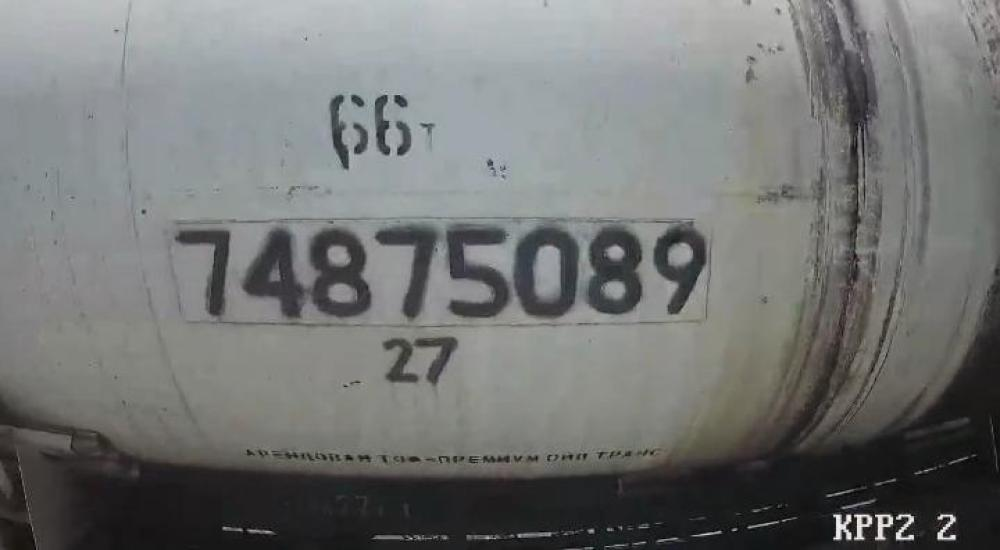Wagon-number: (171, 220, 713, 325)
